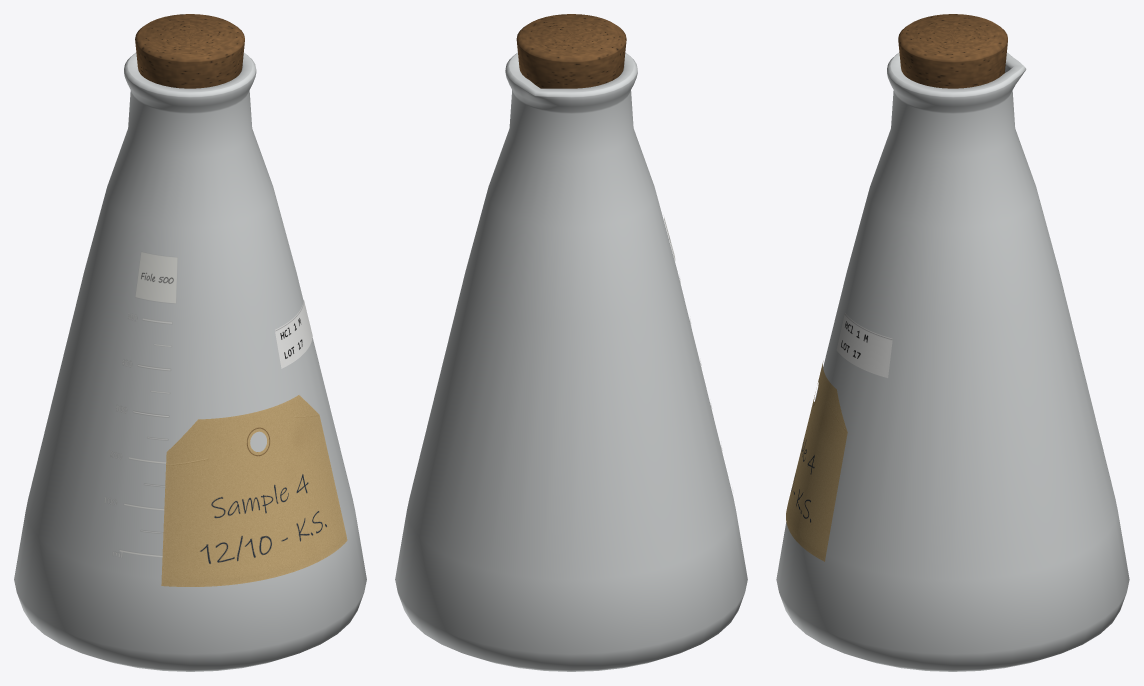
The model's file is v2_erlenmeyer_lab_medium.glb.
3 renders of one model, left to right at view 1: azimuth 30°, elevation 25°; view 2: azimuth 150°, elevation 25°; view 3: azimuth 270°, elevation 25°, orthographic.
Visible parts, largest first — view 1: Glass, Label_front, Cap, Label_grad, Label_tag; view 2: Glass, Cap; view 3: Glass, Cap, Label_front, Label_tag.
Boxes of the visible parts, bbox=[...] form: Glass: bbox=[14, 52, 366, 671]; Label_front: bbox=[161, 395, 347, 586]; Cap: bbox=[135, 14, 244, 88]; Label_grad: bbox=[104, 252, 177, 557]; Label_tag: bbox=[275, 300, 312, 368]; Glass: bbox=[395, 52, 747, 671]; Cap: bbox=[516, 14, 626, 88]; Glass: bbox=[776, 52, 1129, 671]; Cap: bbox=[898, 14, 1007, 88]; Label_front: bbox=[786, 361, 847, 561]; Label_tag: bbox=[836, 313, 892, 377].
Bounding box in the file's own units: 0.1053 × 0.1884 × 0.1055.
6 materials, 4 textured.
